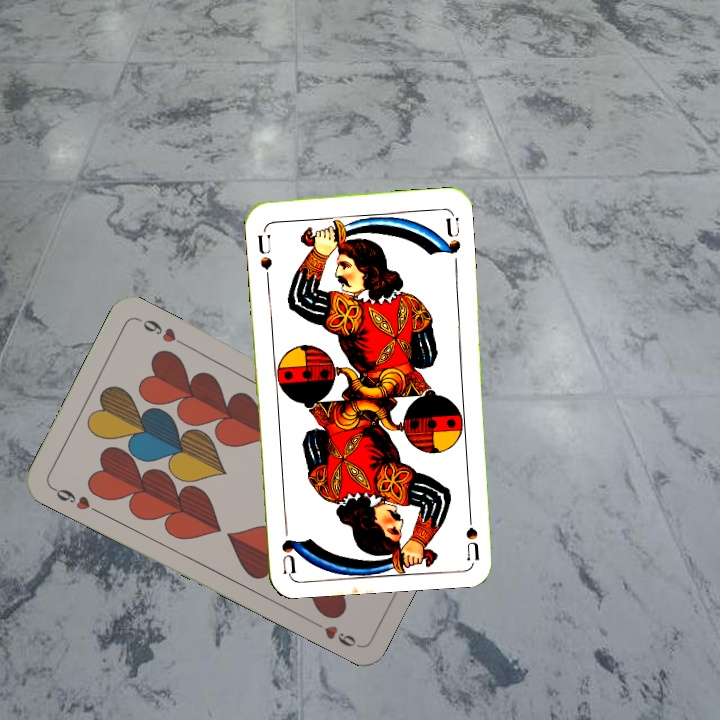H9: (47, 482, 102, 516)
SU: (462, 501, 482, 561), (253, 231, 274, 283)
